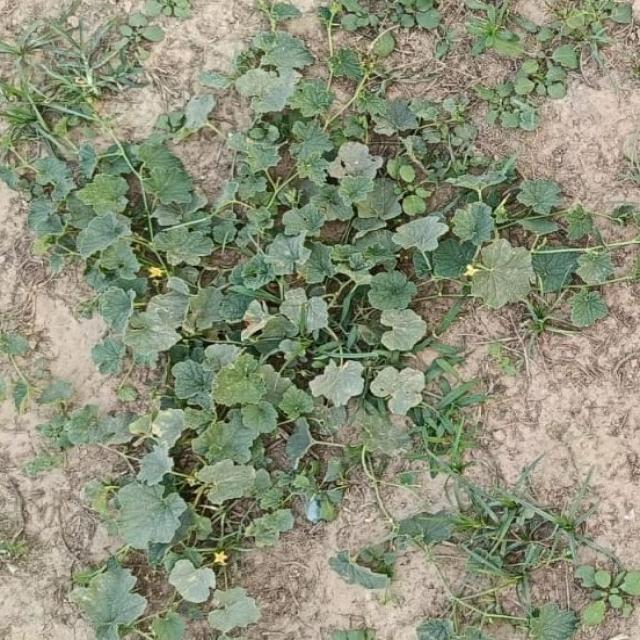plant: (13, 28, 614, 640)
